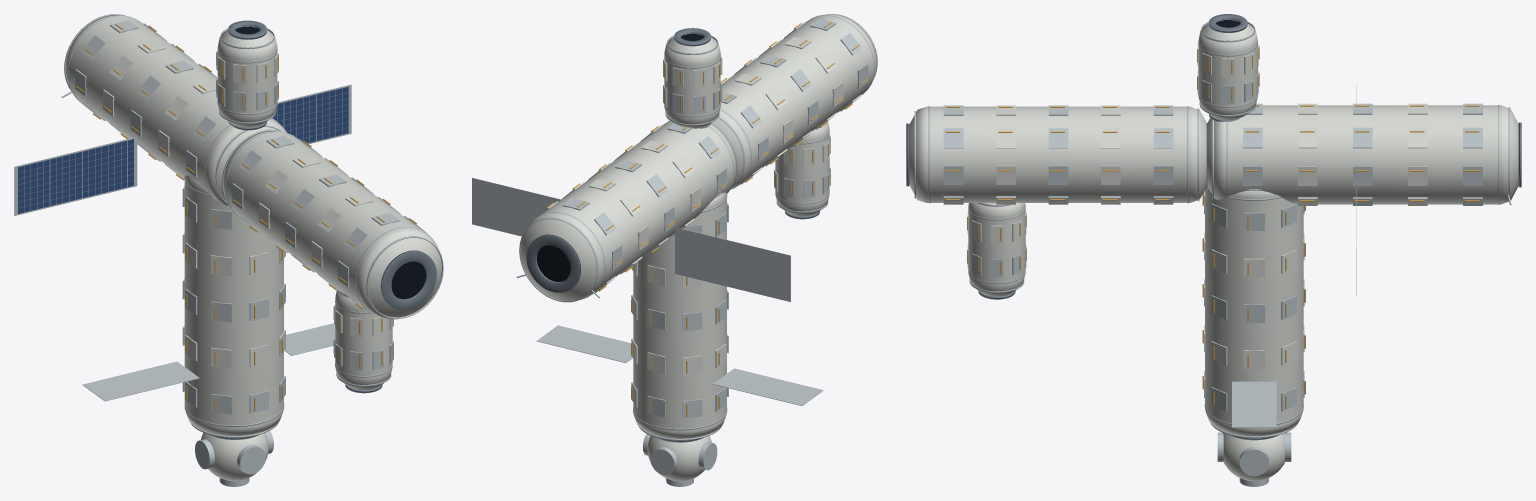
Rendered from iss_russian_segment.glb.
3 views of the same model, side by side, from view 1: azimuth 30°, elevation 25°; view 2: azimuth 150°, elevation 25°; view 3: azimuth 270°, elevation 25° (orthographic). The views are drawn at different scales.
Visible parts, largest first — view 1: nauka.mesh_Pale_thermal_blanket, zarya.mesh_Pale_thermal_blanket, zvezda.mesh_Pale_thermal_blanket, zvezda.wing_base.solar_l.cells.mesh_Blue_photovoltaic_cells, poisk.mesh_Pale_thermal_blanket, rassvet.mesh_Pale_thermal_blanket, zarya.mesh_Satin_aluminum, nauka.mesh_Satin_aluminum, zvezda.mesh_Satin_aluminum, zvezda.wing_base.solar_r.cells.mesh_Blue_photovoltaic_cells, nauka.wing_base.solar_l.cells.mesh_Satin_aluminum, zvezda.wing_base.solar_l.cells.mesh_Satin_aluminum (+11 smaller); view 2: zvezda.mesh_Pale_thermal_blanket, nauka.mesh_Pale_thermal_blanket, zarya.mesh_Pale_thermal_blanket, zvezda.wing_base.solar_l.cells.mesh_Satin_aluminum, poisk.mesh_Pale_thermal_blanket, rassvet.mesh_Pale_thermal_blanket, zvezda.wing_base.solar_r.cells.mesh_Satin_aluminum, zvezda.mesh_Satin_aluminum, nauka.mesh_Satin_aluminum, zarya.mesh_Satin_aluminum, nauka.wing_base.solar_l.cells.mesh_Satin_aluminum, nauka.wing_base.solar_r.cells.mesh_Satin_aluminum (+7 smaller); view 3: zvezda.mesh_Pale_thermal_blanket, zarya.mesh_Pale_thermal_blanket, nauka.mesh_Pale_thermal_blanket, zarya.mesh_Satin_aluminum, rassvet.mesh_Pale_thermal_blanket, poisk.mesh_Pale_thermal_blanket, zvezda.mesh_Satin_aluminum, nauka.mesh_Satin_aluminum, nauka.wing_base.solar_r.cells.mesh_Satin_aluminum, iss_russian_segment.prichal.mesh_Pale_thermal_blanket, poisk.mesh_Satin_aluminum, iss_russian_segment.prichal.mesh_Satin_aluminum (+2 smaller).
Boxes of the visible parts, x1=… form: nauka.mesh_Pale_thermal_blanket: x1=182, y1=175, x2=285, y2=435; zarya.mesh_Pale_thermal_blanket: x1=223, y1=131, x2=442, y2=319; zvezda.mesh_Pale_thermal_blanket: x1=65, y1=15, x2=286, y2=205; zvezda.wing_base.solar_l.cells.mesh_Blue_photovoltaic_cells: x1=18, y1=139, x2=133, y2=213; poisk.mesh_Pale_thermal_blanket: x1=216, y1=30, x2=278, y2=127; rassvet.mesh_Pale_thermal_blanket: x1=334, y1=290, x2=393, y2=389; zarya.mesh_Satin_aluminum: x1=221, y1=129, x2=443, y2=318; nauka.mesh_Satin_aluminum: x1=182, y1=175, x2=285, y2=437; zvezda.mesh_Satin_aluminum: x1=64, y1=14, x2=281, y2=204; zvezda.wing_base.solar_r.cells.mesh_Blue_photovoltaic_cells: x1=273, y1=87, x2=348, y2=142; nauka.wing_base.solar_l.cells.mesh_Satin_aluminum: x1=82, y1=361, x2=199, y2=401; zvezda.wing_base.solar_l.cells.mesh_Satin_aluminum: x1=14, y1=137, x2=137, y2=215; zvezda.mesh_Pale_thermal_blanket: x1=520, y1=121, x2=736, y2=300; nauka.mesh_Pale_thermal_blanket: x1=631, y1=192, x2=728, y2=438; zarya.mesh_Pale_thermal_blanket: x1=712, y1=14, x2=877, y2=189; zvezda.wing_base.solar_l.cells.mesh_Satin_aluminum: x1=675, y1=227, x2=790, y2=301; poisk.mesh_Pale_thermal_blanket: x1=663, y1=37, x2=722, y2=128; rassvet.mesh_Pale_thermal_blanket: x1=775, y1=121, x2=830, y2=216; zvezda.wing_base.solar_r.cells.mesh_Satin_aluminum: x1=472, y1=178, x2=561, y2=236; zvezda.mesh_Satin_aluminum: x1=519, y1=120, x2=737, y2=302; nauka.mesh_Satin_aluminum: x1=631, y1=192, x2=728, y2=440; zarya.mesh_Satin_aluminum: x1=718, y1=15, x2=877, y2=189; nauka.wing_base.solar_l.cells.mesh_Satin_aluminum: x1=713, y1=368, x2=823, y2=405; nauka.wing_base.solar_r.cells.mesh_Satin_aluminum: x1=537, y1=325, x2=632, y2=362; zvezda.mesh_Pale_thermal_blanket: x1=1207, y1=103, x2=1518, y2=205; zarya.mesh_Pale_thermal_blanket: x1=909, y1=105, x2=1206, y2=204; nauka.mesh_Pale_thermal_blanket: x1=1204, y1=187, x2=1304, y2=436; zarya.mesh_Satin_aluminum: x1=914, y1=105, x2=1199, y2=204; rassvet.mesh_Pale_thermal_blanket: x1=967, y1=203, x2=1026, y2=296; poisk.mesh_Pale_thermal_blanket: x1=1197, y1=23, x2=1258, y2=119; zvezda.mesh_Satin_aluminum: x1=1212, y1=103, x2=1510, y2=205; nauka.mesh_Satin_aluminum: x1=1204, y1=186, x2=1304, y2=438; nauka.wing_base.solar_r.cells.mesh_Satin_aluminum: x1=1232, y1=381, x2=1276, y2=427; iss_russian_segment.prichal.mesh_Pale_thermal_blanket: x1=1223, y1=433, x2=1285, y2=481; poisk.mesh_Satin_aluminum: x1=1197, y1=19, x2=1258, y2=116; iss_russian_segment.prichal.mesh_Satin_aluminum: x1=1217, y1=432, x2=1291, y2=486.
Size of the model in its own units: 16.28 by 21.29 by 25.89.
